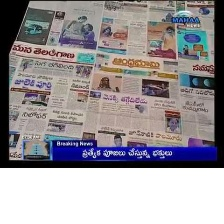news_paper: (7, 0, 213, 162)
